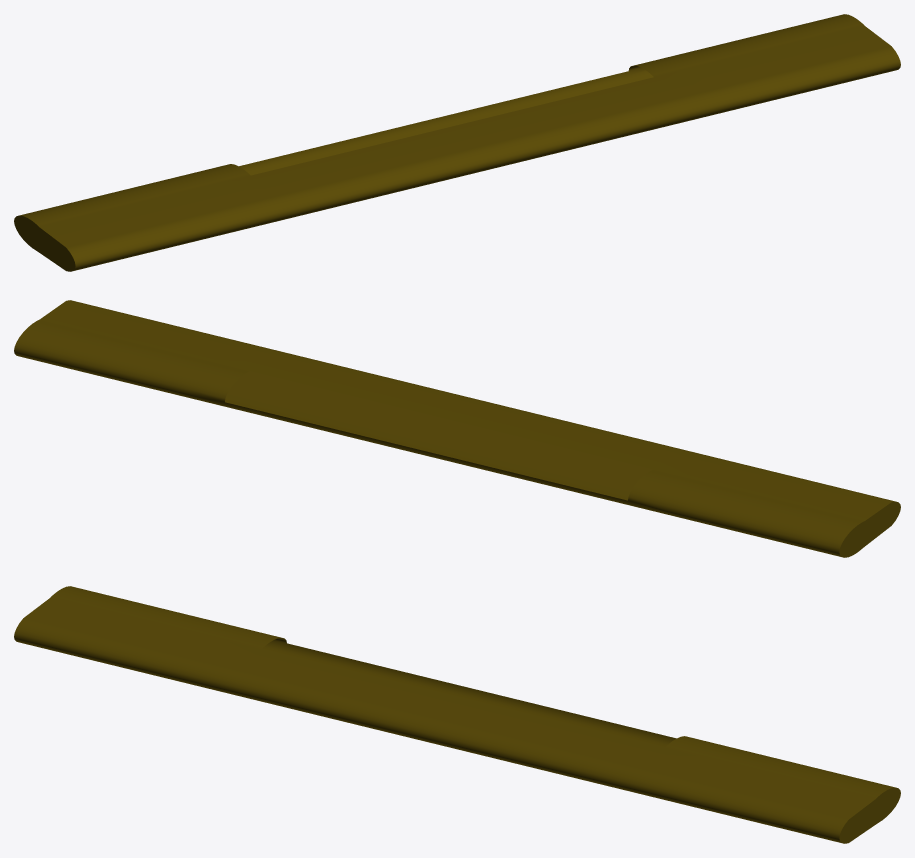
The model's file is deskedgefixed.fbx.
3 views of the same model, one above another, from view 1: azimuth 30°, elevation 25°; view 2: azimuth 150°, elevation 25°; view 3: azimuth 330°, elevation 25° (orthographic).
Visible parts, largest first — view 1: pCylinder22; view 2: pCylinder22; view 3: pCylinder22.
Part boxes in pixels (bbox=[...]): pCylinder22: bbox=[14, 14, 900, 271]; pCylinder22: bbox=[14, 300, 900, 557]; pCylinder22: bbox=[14, 586, 900, 843].
Size of the model in its own units: 246 by 7.76 by 31.84.
